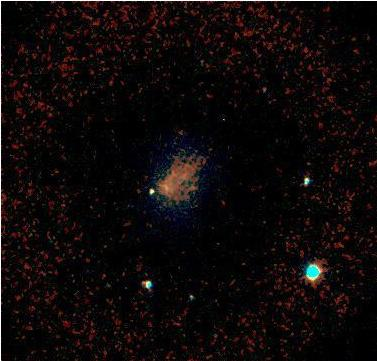star: (246, 78, 276, 108)
